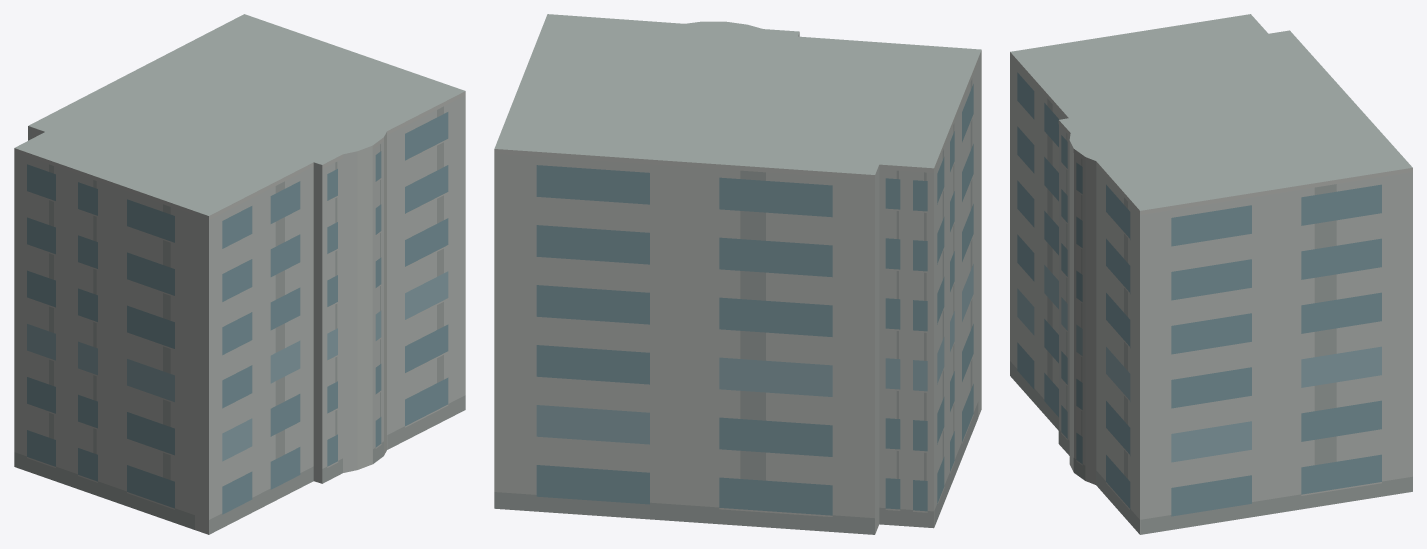
The model's file is survey-upis-32852977.glb.
3 renders of one model, left to right at view 1: azimuth 30°, elevation 25°; view 2: azimuth 150°, elevation 25°; view 3: azimuth 270°, elevation 25°, orthographic. The views are drawn at different scales.
Parts seen in each view (by area): view 1: survey-upis-32852977.tmp; view 2: survey-upis-32852977.tmp; view 3: survey-upis-32852977.tmp.
Part boxes in pixels (box(x1,y1,x2,y2)): survey-upis-32852977.tmp: box(14, 14, 465, 534); survey-upis-32852977.tmp: box(494, 14, 981, 534); survey-upis-32852977.tmp: box(1010, 14, 1412, 534).
Size of the model in its own units: 23.85 by 18.3 by 20.63.
